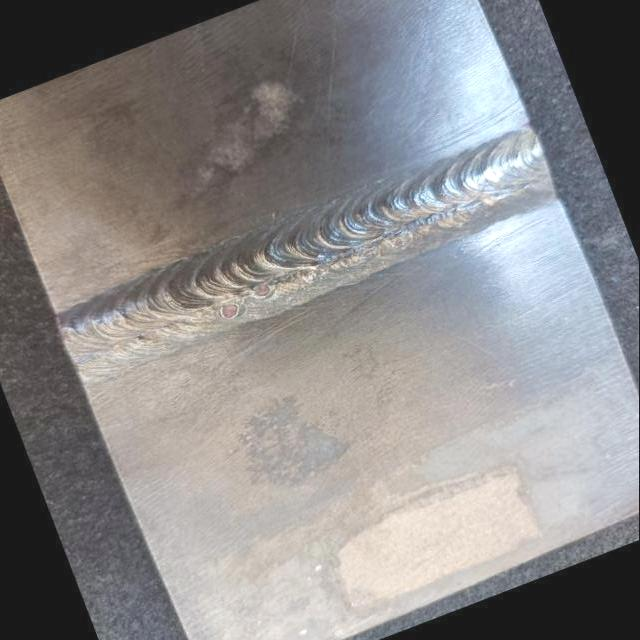defect: (215, 300, 244, 324), (248, 277, 277, 300), (353, 246, 378, 266), (386, 230, 410, 250), (132, 331, 148, 345)
